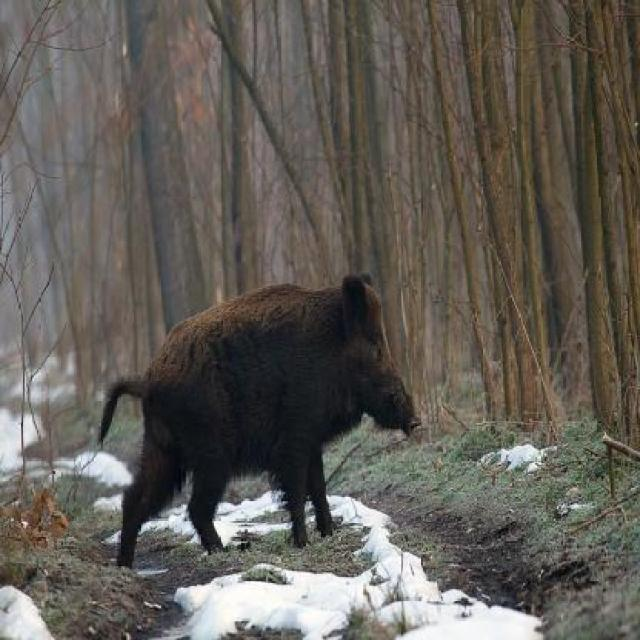wildboar: (97, 265, 420, 570)
